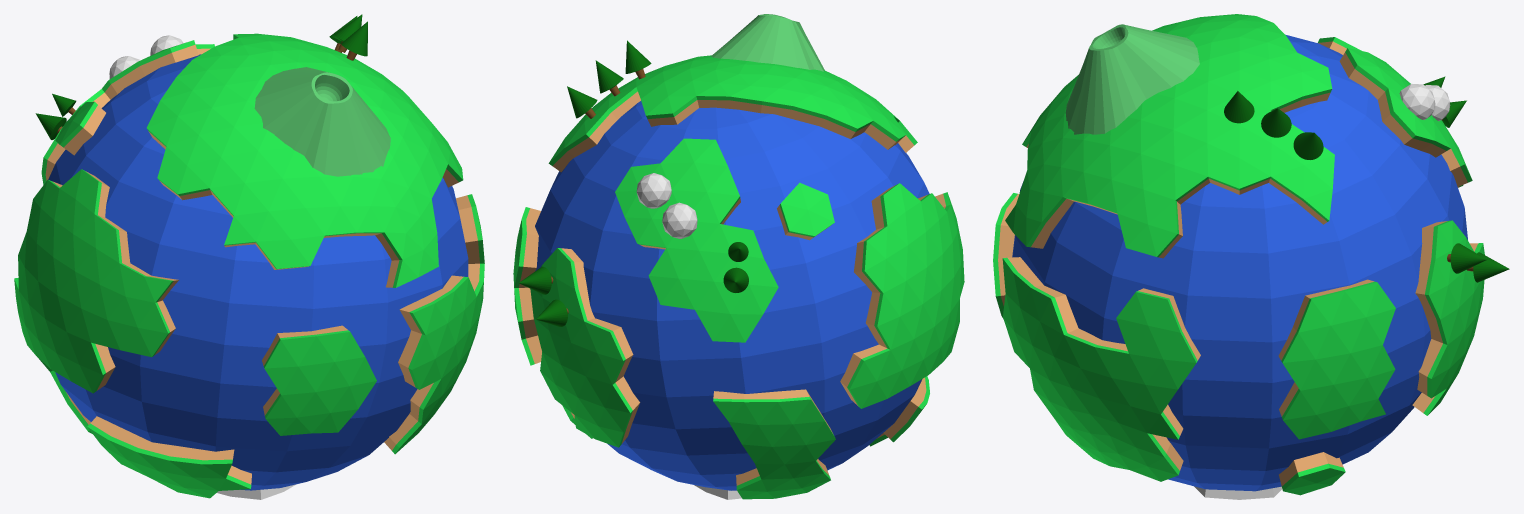
Rendered from earth_sphere.glb.
3 renders of one model, left to right at view 1: azimuth 30°, elevation 25°; view 2: azimuth 150°, elevation 25°; view 3: azimuth 270°, elevation 25°, orthographic. The views are drawn at different scales.
Visible parts, largest first — view 1: Earth, Sea, Yama, Tree.004; view 2: Earth, Sea, Yama, Icosphere.001, Icosphere, Tree.001, Tree, Tree.002, Tree.004, Tree.003, Tree.007; view 3: Earth, Sea, Yama, Icosphere, Tree, Tree.002, Tree.003, Tree.004, Tree.001.
Boxes of the visible parts, left/top/right/bottom form: Earth: left=14, top=33, right=484, bottom=499; Sea: left=48, top=54, right=468, bottom=490; Yama: left=254, top=67, right=390, bottom=176; Tree.004: left=341, top=21, right=367, bottom=60; Earth: left=513, top=55, right=964, bottom=499; Sea: left=535, top=101, right=929, bottom=490; Yama: left=711, top=14, right=824, bottom=71; Icosphere.001: left=662, top=202, right=697, bottom=238; Icosphere: left=636, top=173, right=671, bottom=208; Tree.001: left=536, top=299, right=568, bottom=326; Tree: left=519, top=267, right=553, bottom=294; Tree.002: left=567, top=86, right=597, bottom=118; Tree.004: left=625, top=40, right=651, bottom=79; Tree.003: left=595, top=60, right=623, bottom=96; Tree.007: left=723, top=267, right=748, bottom=292; Earth: left=993, top=14, right=1484, bottom=499; Sea: left=1012, top=34, right=1467, bottom=491; Yama: left=1065, top=24, right=1199, bottom=134; Icosphere: left=1399, top=83, right=1435, bottom=119; Tree: left=1447, top=243, right=1486, bottom=273; Tree.002: left=1293, top=132, right=1323, bottom=159; Tree.003: left=1261, top=108, right=1291, bottom=137; Tree.004: left=1224, top=91, right=1254, bottom=123; Tree.001: left=1467, top=252, right=1509, bottom=282.
Bounding box in the file's own units: 24.31 × 25.48 × 25.68.
